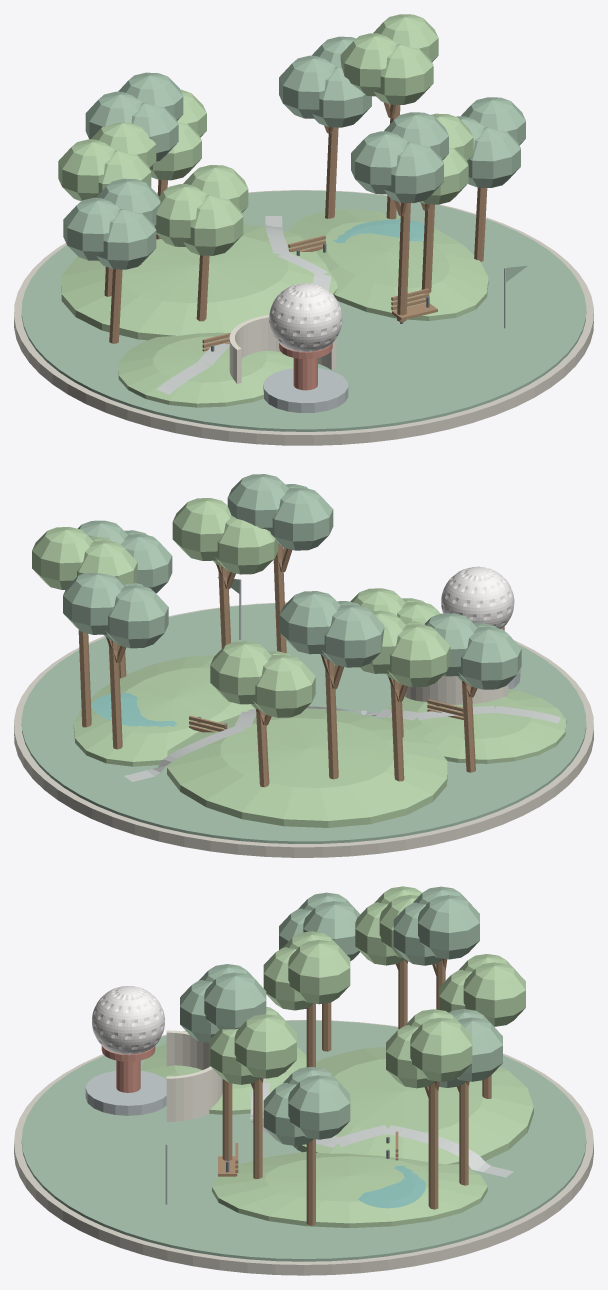
File: dot-guoling-park.glb
3 views of the same model, one above another, from view 1: azimuth 30°, elevation 25°; view 2: azimuth 150°, elevation 25°; view 3: azimuth 270°, elevation 25° (orthographic).
Parts seen in each view (by area): view 1: sand; view 2: sand; view 3: sand.
Part boxes in pixels (box(x1,y1,x2,y2)): sand: box(14, 14, 593, 445); sand: box(14, 474, 593, 857); sand: box(14, 886, 593, 1275).
Size of the model in its own units: 7.9 by 3.36 by 7.9.
1 material, 1 textured.
